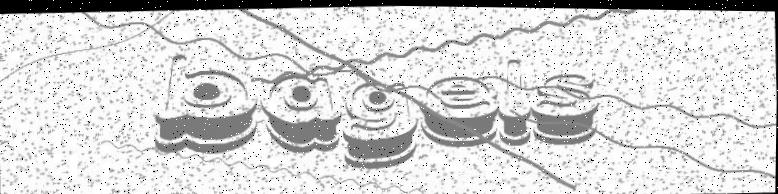a: (258, 73, 344, 155)
b: (151, 49, 262, 158)
e: (420, 72, 502, 149)
g: (341, 77, 421, 171)
l: (496, 56, 533, 147)
s: (528, 69, 601, 145)
